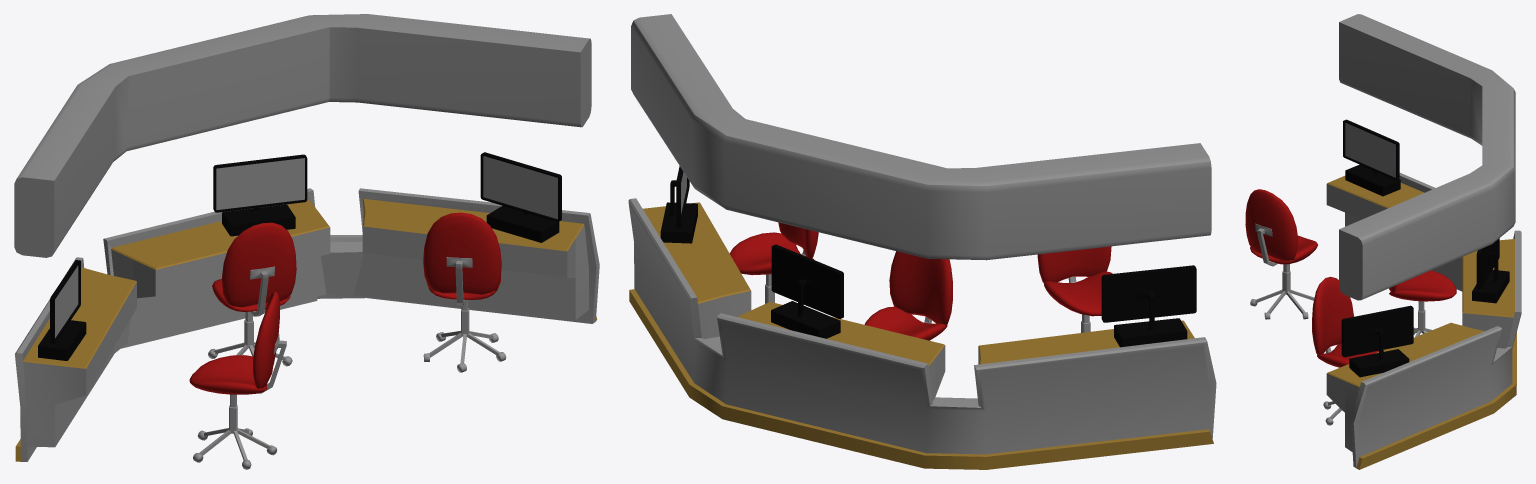
The model's file is Lobby_Assets.fbx.
3 views of the same model, side by side, from view 1: azimuth 30°, elevation 25°; view 2: azimuth 150°, elevation 25°; view 3: azimuth 270°, elevation 25° (orthographic). The views are drawn at different scales.
Visible parts, largest first — view 1: ComputerAndMonitor; view 2: ComputerAndMonitor; view 3: ComputerAndMonitor.
Boxes of the visible parts, x1,y1,x2,y2 form: ComputerAndMonitor: (14,14,599,469); ComputerAndMonitor: (628,14,1216,469); ComputerAndMonitor: (1245,14,1521,469).
Size of the model in its own units: 585 by 272 by 298.
